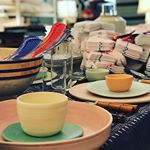cups: (14, 90, 72, 138), (103, 73, 136, 94)
